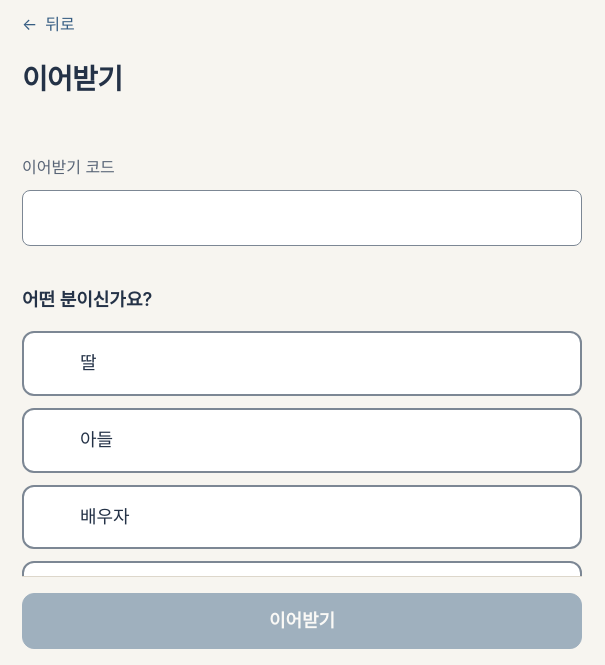
it: 이어받기 › 코드가 틀리면 다시 확인해 달라고 한다
This screenshot has width=605, height=665.
Type "XXXXXXXX" into the field labelled "이어받기 코드" at (302, 218), box top-left (22, 190), bottom-right (582, 246)
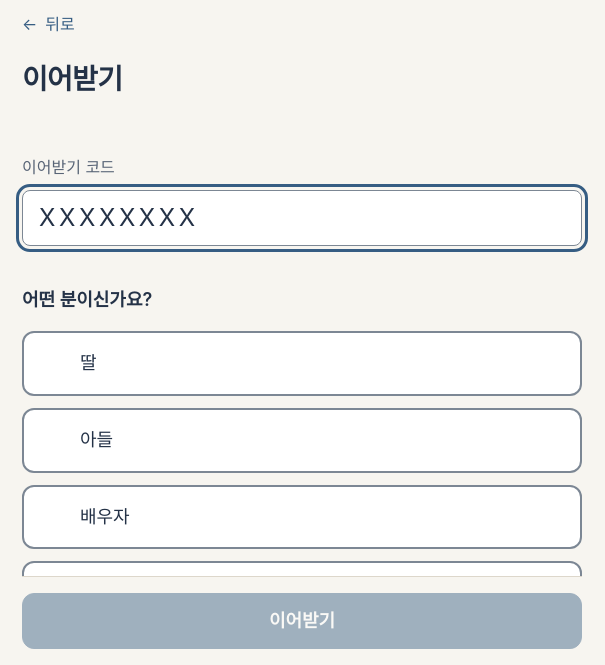
Click the button "딸" at (88, 362), box top-left (22, 331), bottom-right (582, 396)
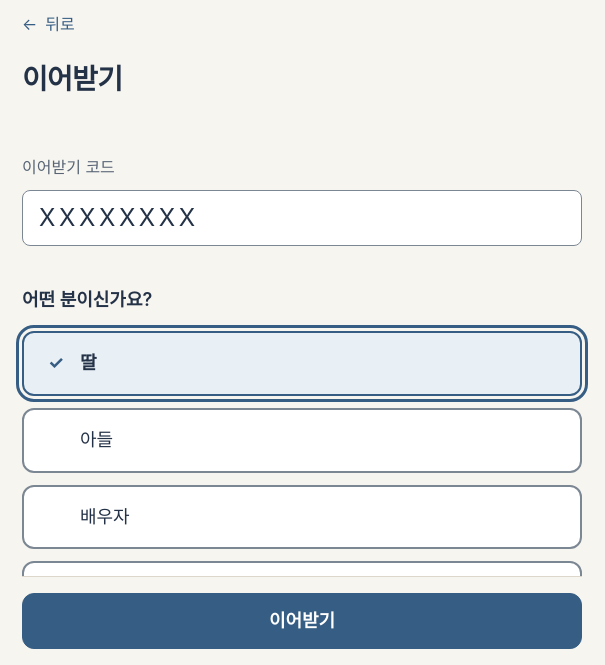
Click the button "이어받기" at (302, 621), box top-left (22, 593), bottom-right (582, 649)
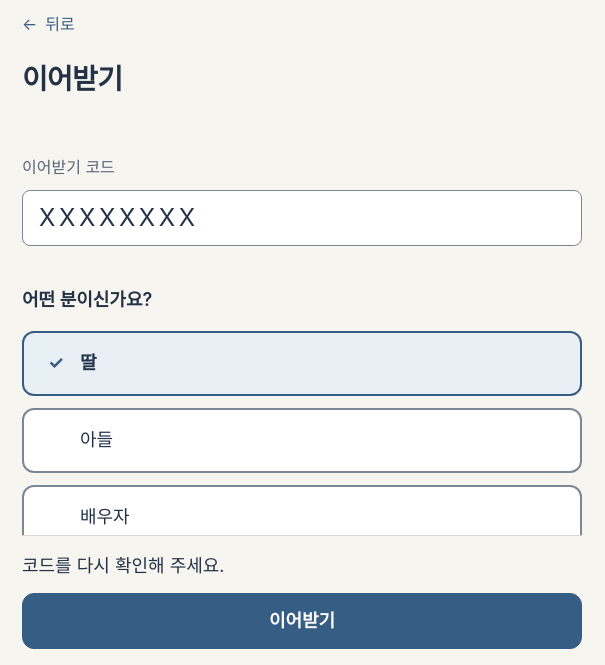
Now the text "코드를 다시 확인해 주세요." is shown, box top-left (22, 555), bottom-right (224, 576)
